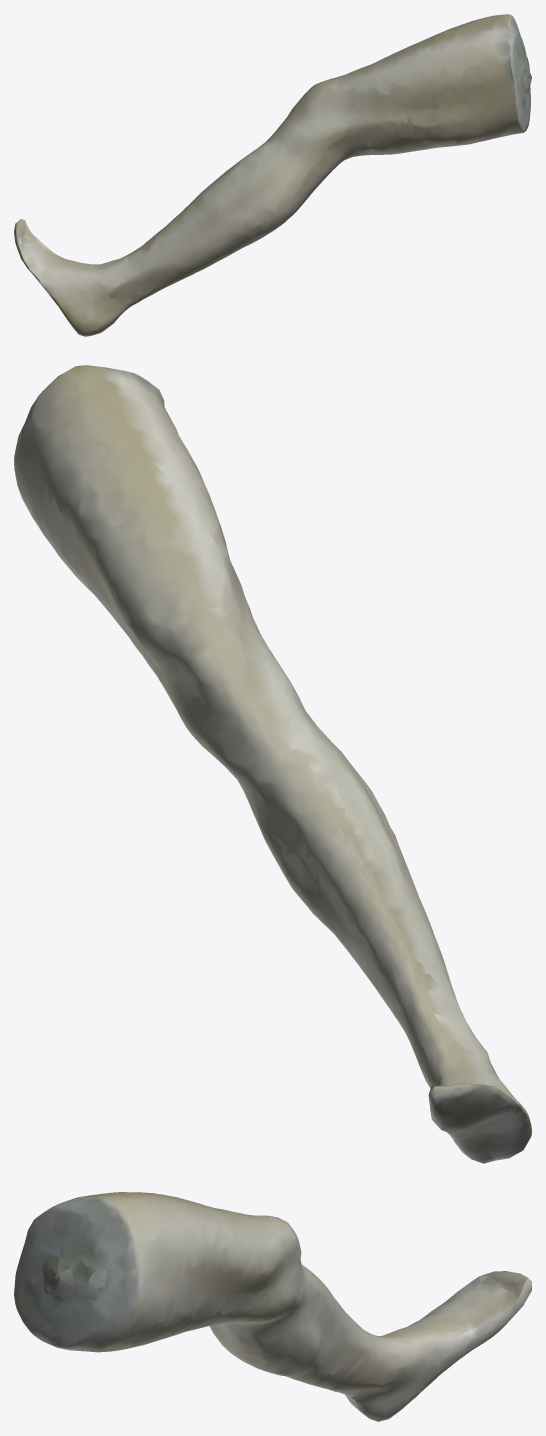
Rendered from mannequin_leg.glb.
3 views of the same model, one above another, from view 1: azimuth 30°, elevation 25°; view 2: azimuth 150°, elevation 25°; view 3: azimuth 270°, elevation 25° (orthographic). The views are drawn at different scales.
Parts seen in each view (by area): view 1: Object_2; view 2: Object_2; view 3: Object_2.
Boxes of the visible parts, x1,y1,x2,y2 form: Object_2: [14, 14, 531, 336]; Object_2: [14, 365, 531, 1163]; Object_2: [14, 1192, 531, 1421].
Bounding box in the file's own units: 765887 × 571913 × 587988.
